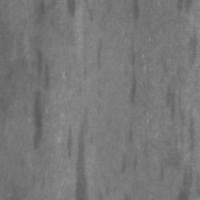inclusion: (120, 2, 148, 107), (70, 103, 95, 199), (27, 89, 49, 154), (162, 73, 186, 128), (33, 43, 54, 96), (121, 142, 143, 177), (92, 29, 108, 75), (124, 117, 138, 149)
